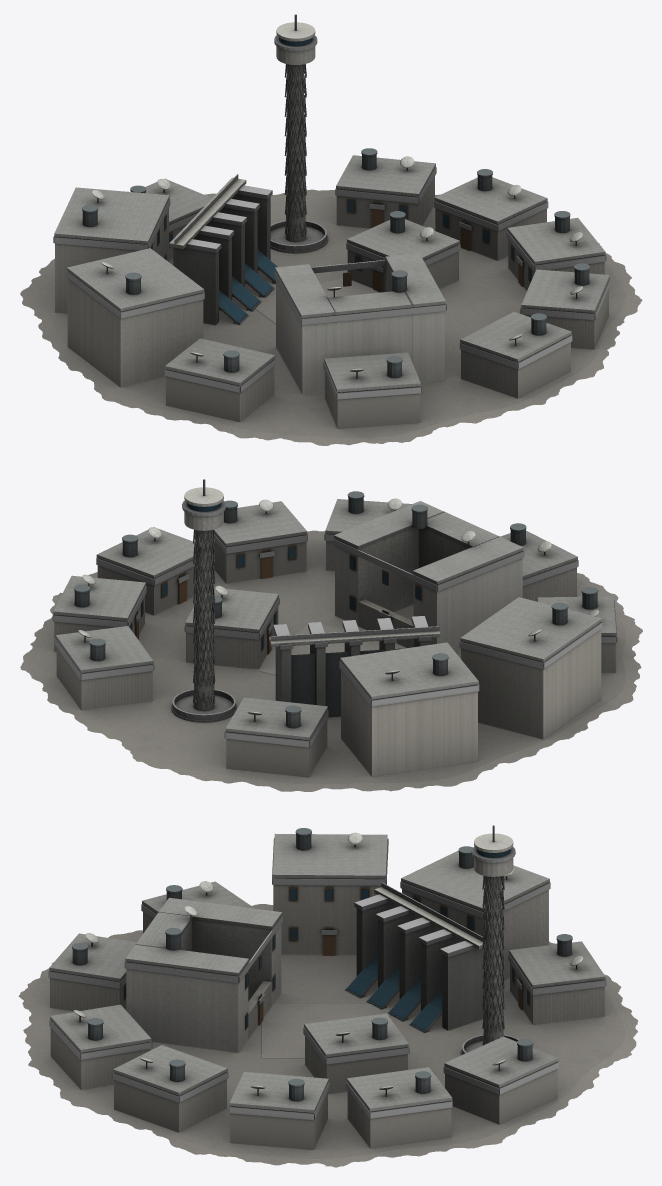
Rendered from modern-town-medium-b-nile.glb.
3 renders of one model, top to bottom at view 1: azimuth 30°, elevation 25°; view 2: azimuth 150°, elevation 25°; view 3: azimuth 270°, elevation 25°, orthographic.
Parts seen in each view (by area): view 1: LOD0; view 2: LOD0; view 3: LOD0.
Part boxes in pixels (bbox=[...]): LOD0: bbox=[20, 14, 642, 445]; LOD0: bbox=[20, 479, 642, 791]; LOD0: bbox=[18, 825, 638, 1167].
Size of what is drawn, in the model's own units: 5.97 by 2.4 by 5.96.
3 materials, 3 textured.
